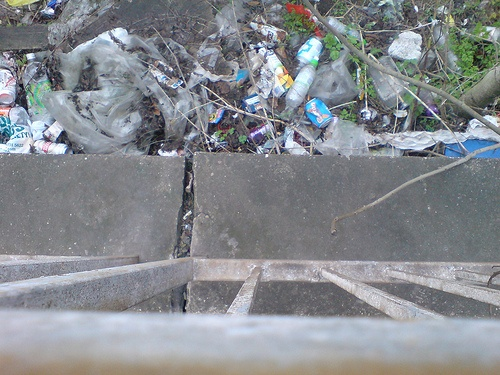rubble: (2, 1, 492, 156)
